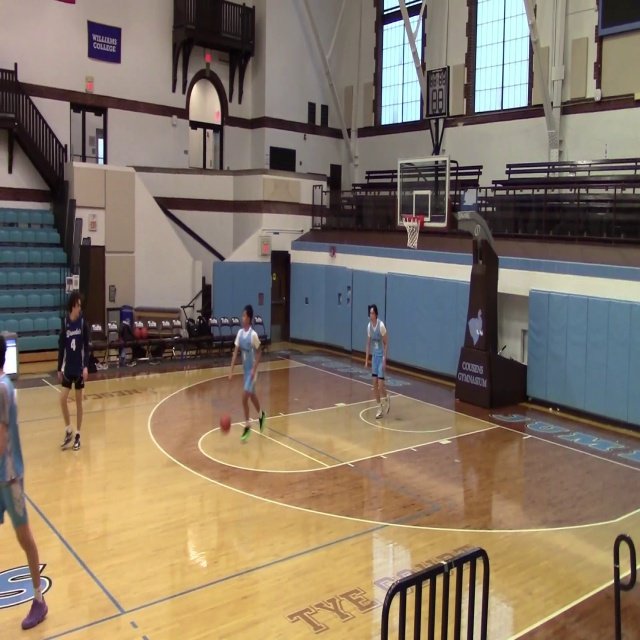Basketball: (220, 414, 231, 431)
